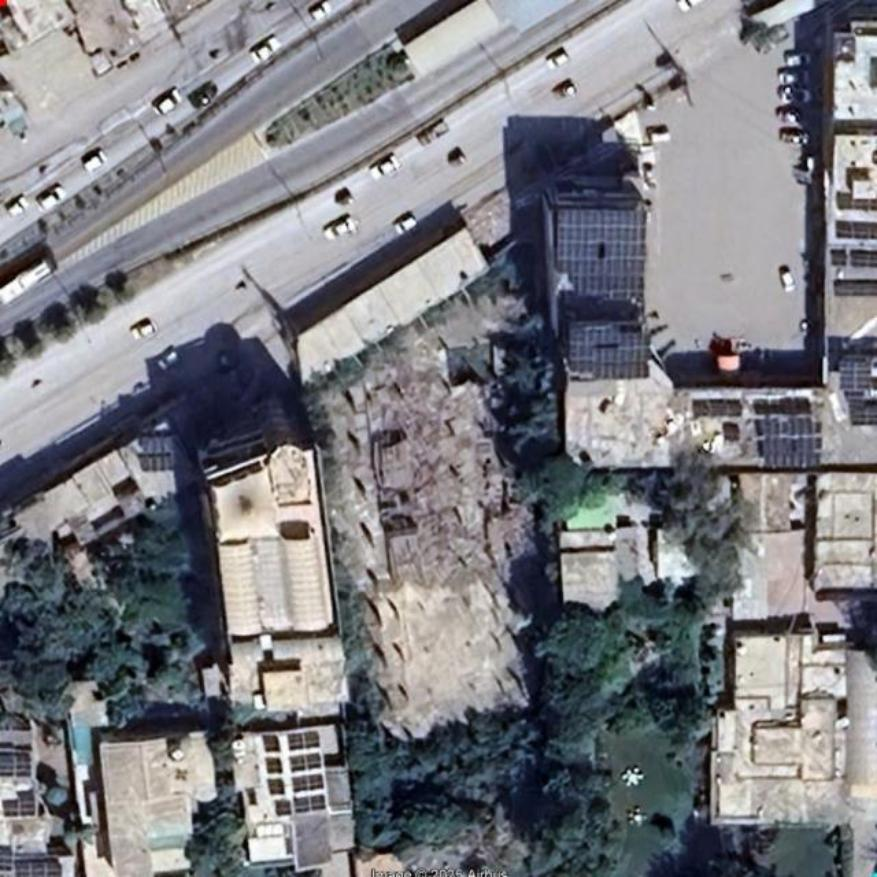Solarpanel: (558, 208, 645, 300), (570, 320, 649, 379), (755, 415, 821, 466), (142, 433, 177, 470), (18, 854, 60, 876), (1, 790, 34, 817), (0, 754, 33, 779), (842, 362, 871, 390), (835, 280, 876, 295), (851, 402, 876, 425), (839, 223, 876, 238), (286, 733, 318, 749), (839, 195, 876, 207), (296, 797, 325, 811), (291, 756, 321, 769), (294, 777, 324, 788), (852, 253, 876, 266), (1, 845, 10, 876)
